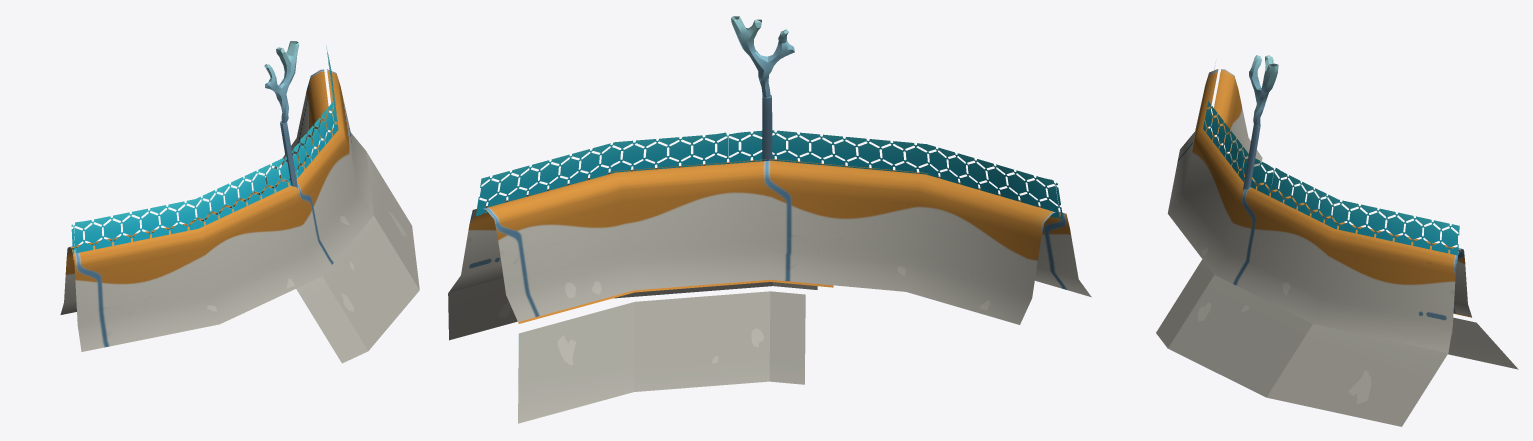
File: S_Wall_08.fbx
3 renders of one model, left to right at view 1: azimuth 30°, elevation 25°; view 2: azimuth 150°, elevation 25°; view 3: azimuth 270°, elevation 25°, orthographic. The views are drawn at different scales.
Parts seen in each view (by area): view 1: S_Wall_08; view 2: S_Wall_08; view 3: S_Wall_08.
Boxes of the visible parts, box(x1,y1,x2,y2) form: S_Wall_08: box(60, 41, 419, 363); S_Wall_08: box(448, 16, 1091, 423); S_Wall_08: box(1156, 55, 1518, 426).
Bounding box in the file's own units: 678 × 406 × 529.
1 material, 1 textured.
